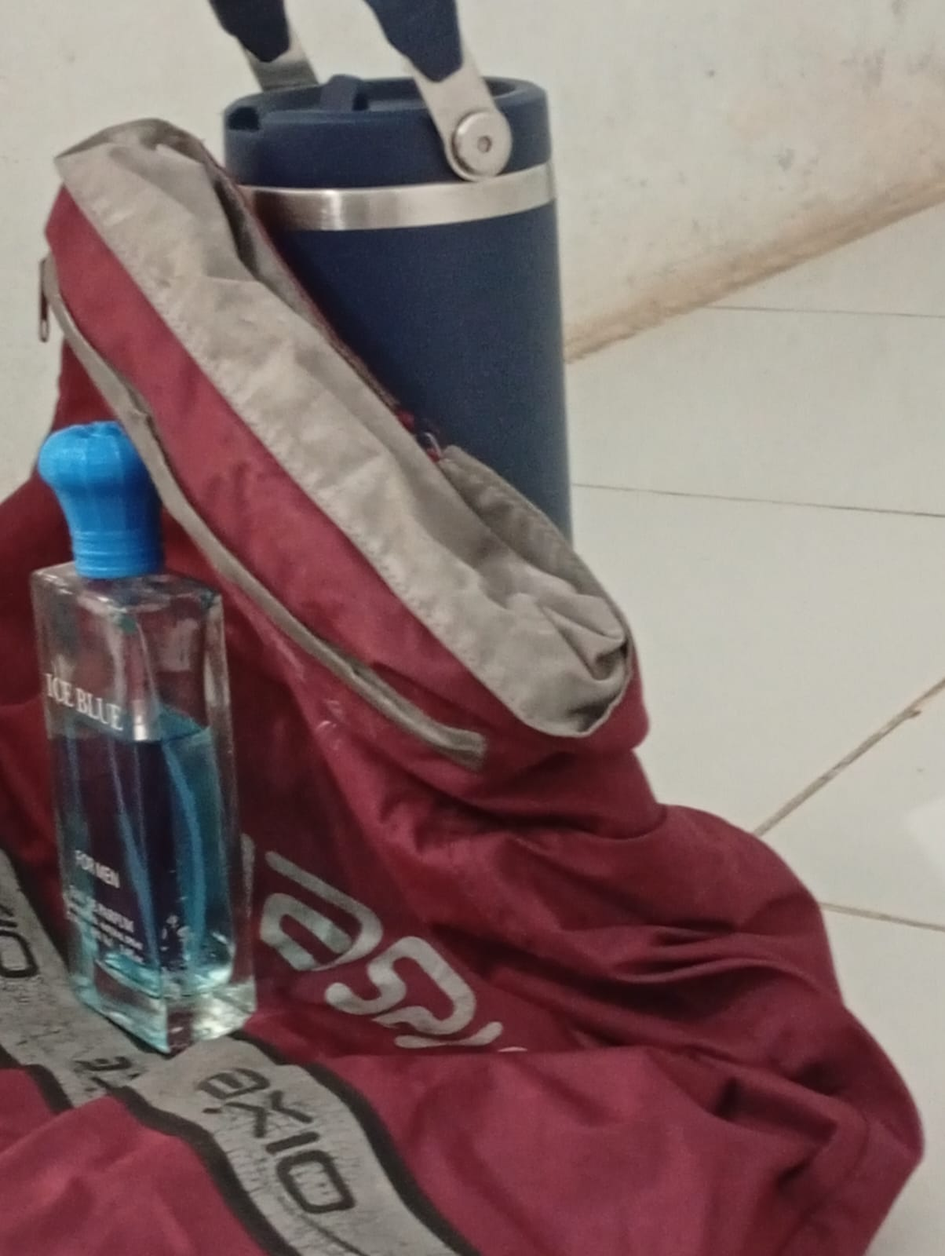Tupperware: (170, 0, 649, 602), (8, 399, 308, 1063)
